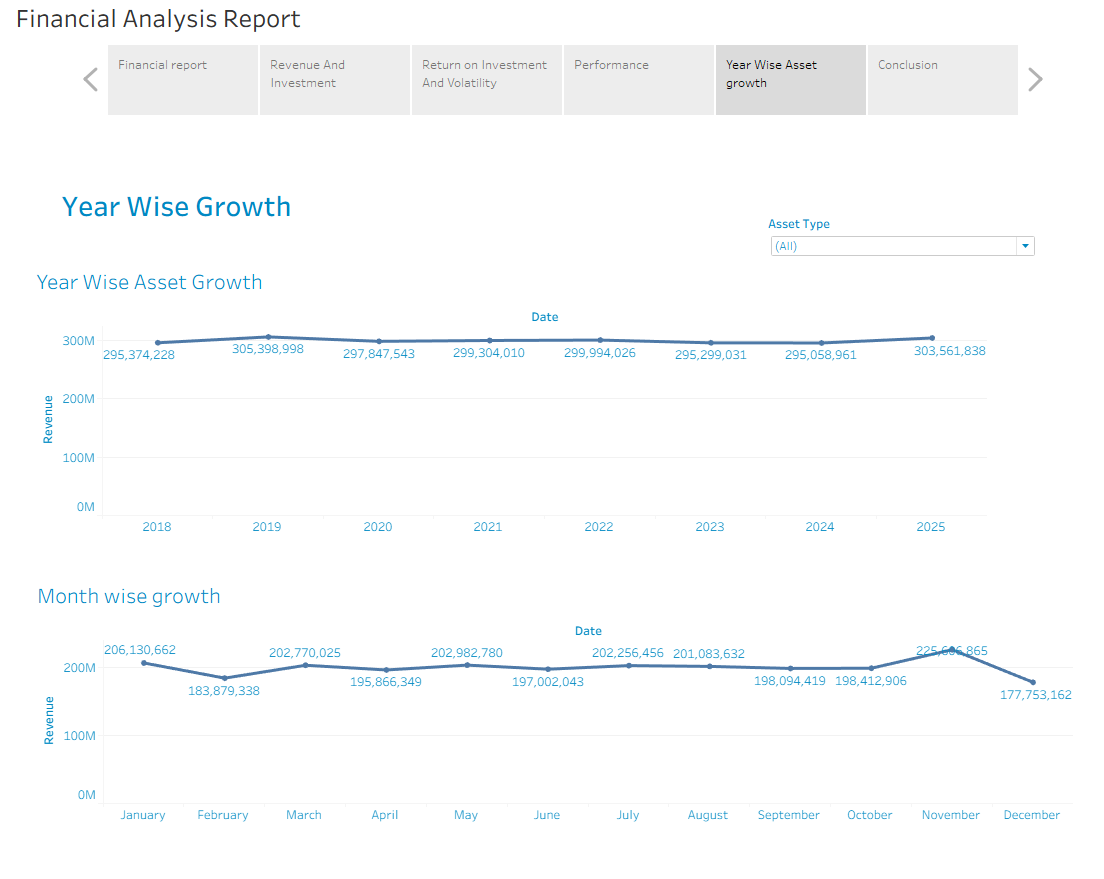

This screenshot's page, from the dashboard's own definition file:
{"tool":"tableau","page":{"name":"Dashboard 4","canvas":[1000,1000],"units":"permille","ordinal":3},"visuals":[{"type":"text","box":[42.1,33.9,252.8,128.6]},{"type":"filter","title":"Year Wise Asset Growth","param":"[federated.1rvt64d028b8dz11czbfh04hzu45].[none:Asset_Type:nk]","box":[686.6,112.5,245.8,78.6]},{"type":"worksheet","title":"Year Wise Asset Growth","mark":"Automatic","rows":["Revenue"],"cols":["Date"],"box":[17.4,179.7,867.8,382.7]},{"type":"worksheet","title":"Month wise growth ","mark":"Automatic","rows":["Revenue"],"cols":["Date"],"box":[18.3,619.6,945.2,345.4]}]}

Visuals, with their boxes on the dashboard's canvas, which has no fixed pixel size, in thousandths of its width and height (x1, y1, x2, y2). These are canvas units, not pixel positions in the 1104x879 screenshot, which may show the page scaled, cropped or inside an application window:
text: box=[42, 34, 295, 162]
"Year Wise Asset Growth" filter: box=[687, 112, 932, 191]
"Year Wise Asset Growth" worksheet: box=[17, 180, 885, 562]
"Month wise growth " worksheet: box=[18, 620, 964, 965]
